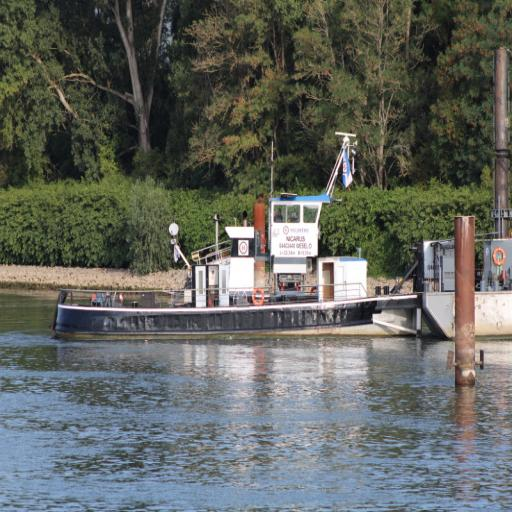tugboat: (47, 187, 429, 355)
